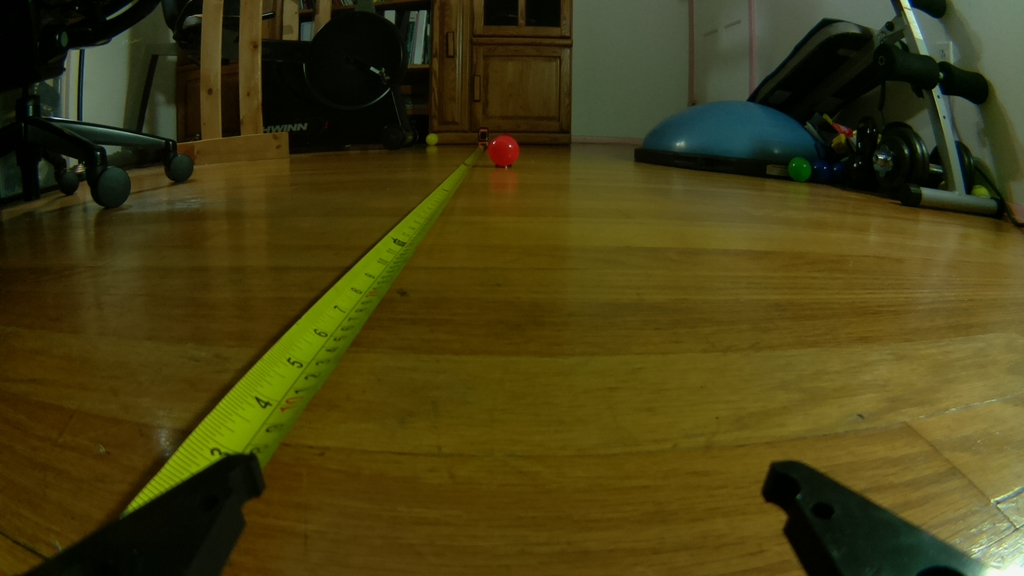ball: (484, 131, 520, 168)
